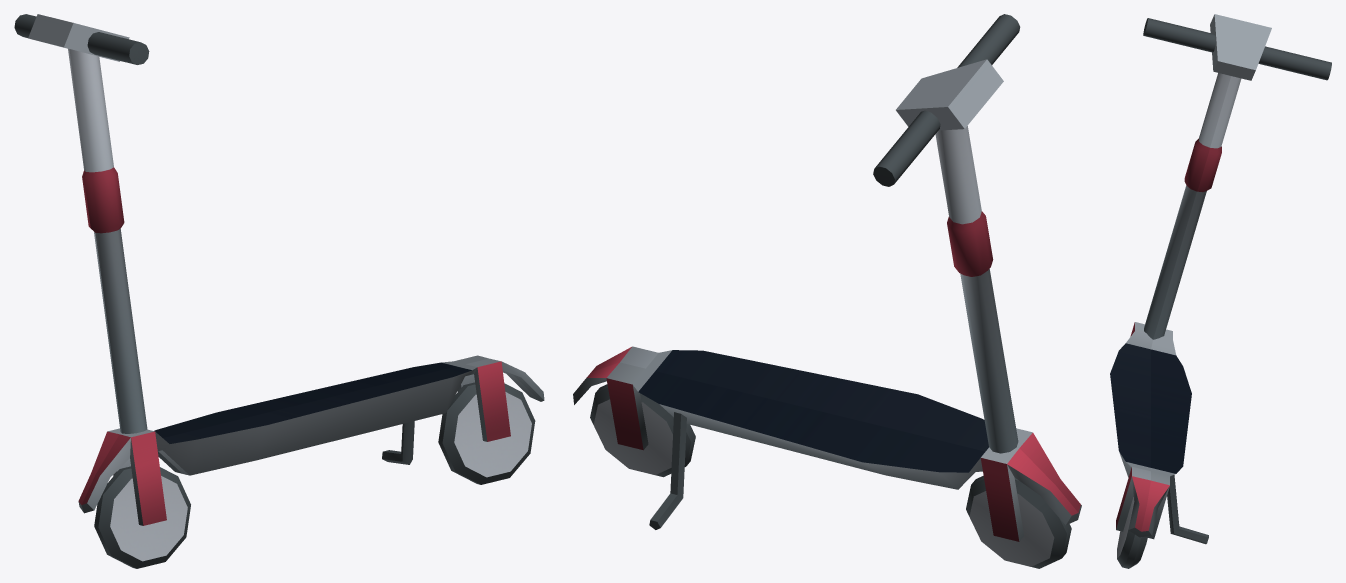
File: Wiaomi.fbx
3 views of the same model, side by side, from view 1: azimuth 30°, elevation 25°; view 2: azimuth 150°, elevation 25°; view 3: azimuth 270°, elevation 25° (orthographic). The views are drawn at different scales.
Visible parts, largest first — view 1: Box036; view 2: Box036; view 3: Box036.
Boxes of the visible parts, box(x1,y1,x2,y2) form: Box036: box(14, 14, 544, 568); Box036: box(573, 14, 1081, 568); Box036: box(1110, 14, 1331, 568).
Size of the model in its own units: 95.64 by 102 by 49.85.
